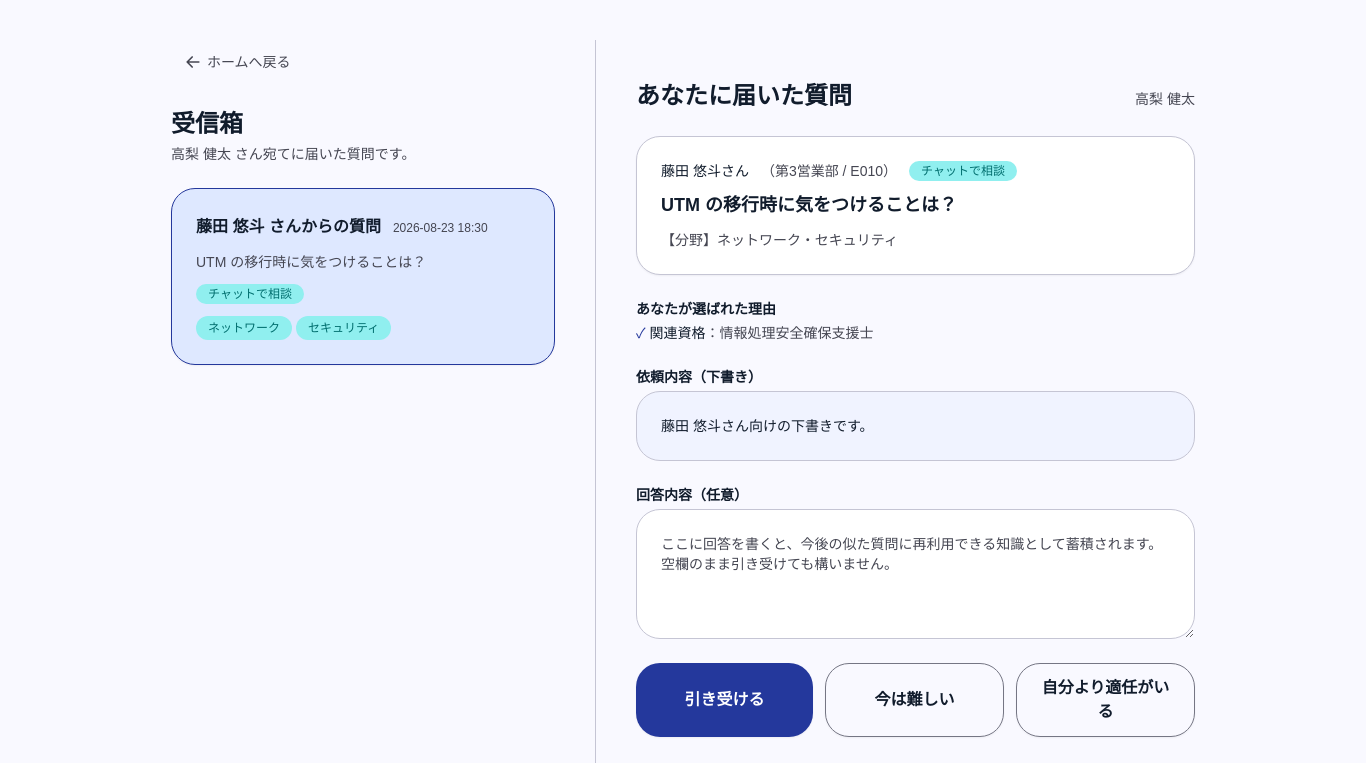
it: InboxScreen › keeps the accepted item's confirmation visible and drops it from the list
Click the button "引き受ける" at (724, 700), box x1=636 y1=663 x2=813 y2=737
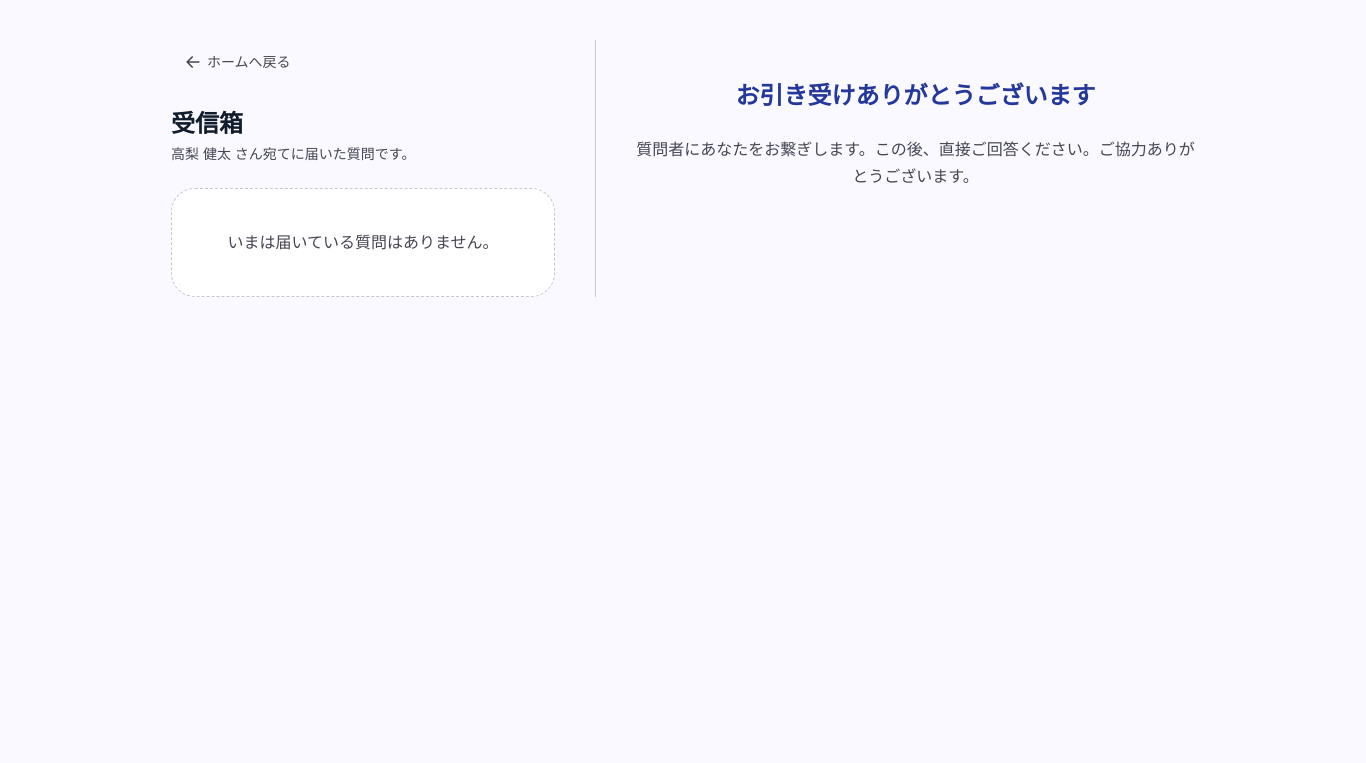
Expected: the text "いまは届いている質問はありません。" is shown, x1=212 y1=229 x2=514 y2=256
Expected: the heading "お引き受けありがとうございます" is shown, x1=736 y1=82 x2=1096 y2=109
